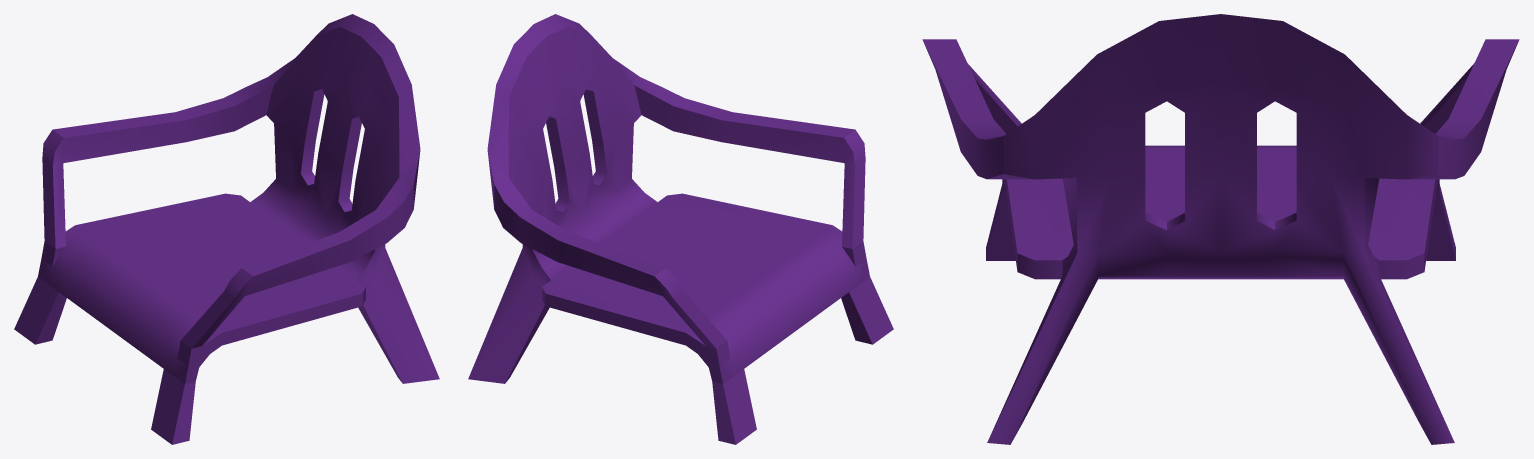
File: fbx_CVS_chair_1.fbx
3 views of the same model, side by side, from view 1: azimuth 30°, elevation 25°; view 2: azimuth 150°, elevation 25°; view 3: azimuth 270°, elevation 25° (orthographic). The views are drawn at different scales.
Visible parts, largest first — view 1: fbx_CVS_chair_1; view 2: fbx_CVS_chair_1; view 3: fbx_CVS_chair_1.
Boxes of the visible parts, x1=… form: fbx_CVS_chair_1: x1=14, y1=14, x2=439, y2=444; fbx_CVS_chair_1: x1=468, y1=14, x2=893, y2=444; fbx_CVS_chair_1: x1=922, y1=14, x2=1519, y2=444.
Bounding box in the file's own units: 0.6076 × 0.6086 × 0.7518.
Materials: 1 (1 with a texture image).
